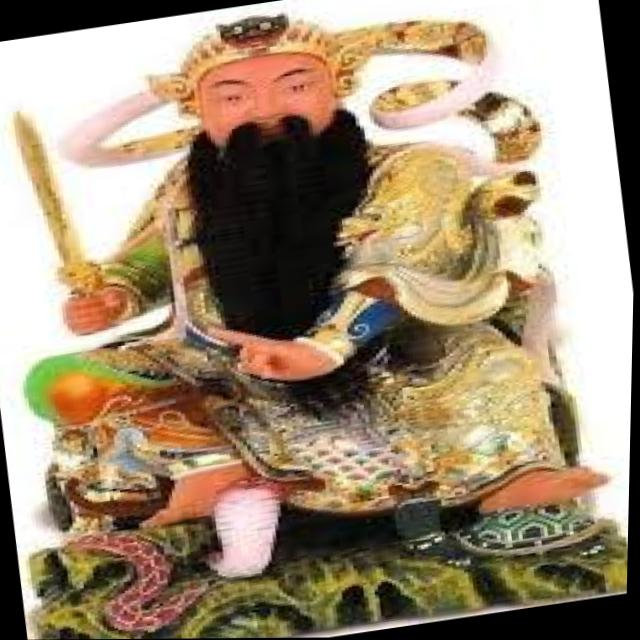Xuan wu: (19, 0, 640, 634)
